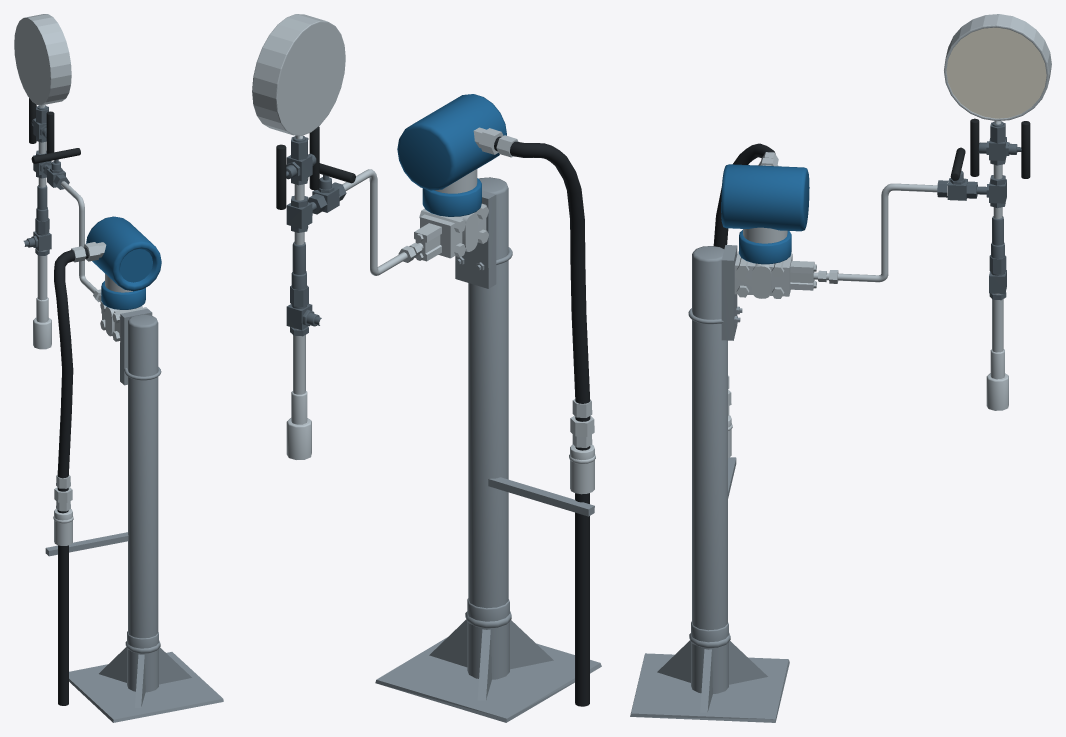
The model's file is 压力变送器_完整装配.glb.
The picture shows the model from 3 angles, left to right: view 1: azimuth 30°, elevation 25°; view 2: azimuth 150°, elevation 25°; view 3: azimuth 270°, elevation 25°; orthographic projection. The views are drawn at different scales.
Parts seen in each view (by area): view 1: 立柱_支撑管, 底座_安装底板, 压力表_表壳, 变送器_电子外壳, 线缆_弯曲护套, 线缆_下引段, 立柱_底部套筒, 变送器_下壳盖, 支架_仪表安装板, 支架_线缆固定片, 引压管_弯管, 线缆_防水接头 (+7 smaller); view 2: 立柱_支撑管, 压力表_表壳, 底座_安装底板, 变送器_电子外壳, 线缆_弯曲护套, 线缆_下引段, 立柱_底部套筒, 支架_仪表安装板, 变送器_下壳盖, 支架_线缆固定片, 引压管_弯管, 线缆_防水接头 (+10 smaller); view 3: 立柱_支撑管, 压力表_表盘, 底座_安装底板, 变送器_电子外壳, 压力表_表壳, 立柱_底部套筒, 引压管_弯管, 支架_仪表安装板, 变送器_下壳盖, 变送器_连接块, 线缆_弯曲护套, 底座_加强筋_02 (+3 smaller).
Part boxes in pixels (<box>): 立柱_支撑管: <box>128,314,158,638</box>; 底座_安装底板: <box>69,652,223,722</box>; 压力表_表壳: <box>14,14,71,105</box>; 变送器_电子外壳: <box>86,216,161,291</box>; 线缆_弯曲护套: <box>54,247,88,513</box>; 线缆_下引段: <box>58,545,68,705</box>; 立柱_底部套筒: <box>125,631,160,692</box>; 变送器_下壳盖: <box>101,281,145,309</box>; 支架_仪表安装板: <box>120,308,152,385</box>; 支架_线缆固定片: <box>45,532,128,556</box>; 引压管_弯管: <box>61,181,99,296</box>; 线缆_防水接头: <box>53,508,73,545</box>; 立柱_支撑管: <box>468,177,508,608</box>; 压力表_表壳: <box>252,14,345,135</box>; 底座_安装底板: <box>375,637,601,722</box>; 变送器_电子外壳: <box>397,94,506,190</box>; 线缆_弯曲护套: <box>494,136,590,450</box>; 线缆_下引段: <box>575,493,589,706</box>; 立柱_底部套筒: <box>465,598,511,679</box>; 支架_仪表安装板: <box>455,190,496,288</box>; 变送器_下壳盖: <box>422,178,481,216</box>; 支架_线缆固定片: <box>488,477,594,516</box>; 引压管_弯管: <box>342,169,423,275</box>; 线缆_防水接头: <box>569,444,595,494</box>; 立柱_支撑管: <box>692,246,727,630</box>; 压力表_表盘: <box>946,27,1046,118</box>; 底座_安装底板: <box>630,653,789,722</box>; 变送器_电子外壳: <box>721,164,809,231</box>; 压力表_表壳: <box>944,14,1051,120</box>; 立柱_底部套筒: <box>689,621,730,693</box>; 引压管_弯管: <box>813,183,937,282</box>; 支架_仪表安装板: <box>721,245,737,340</box>; 变送器_下壳盖: <box>739,230,791,264</box>; 变送器_连接块: <box>734,251,792,296</box>; 线缆_弯曲护套: <box>713,143,775,248</box>; 底座_加强筋_02: <box>729,641,767,684</box>.
Bounding box in the file's own units: 0.1314 × 0.4999 × 0.2801.
